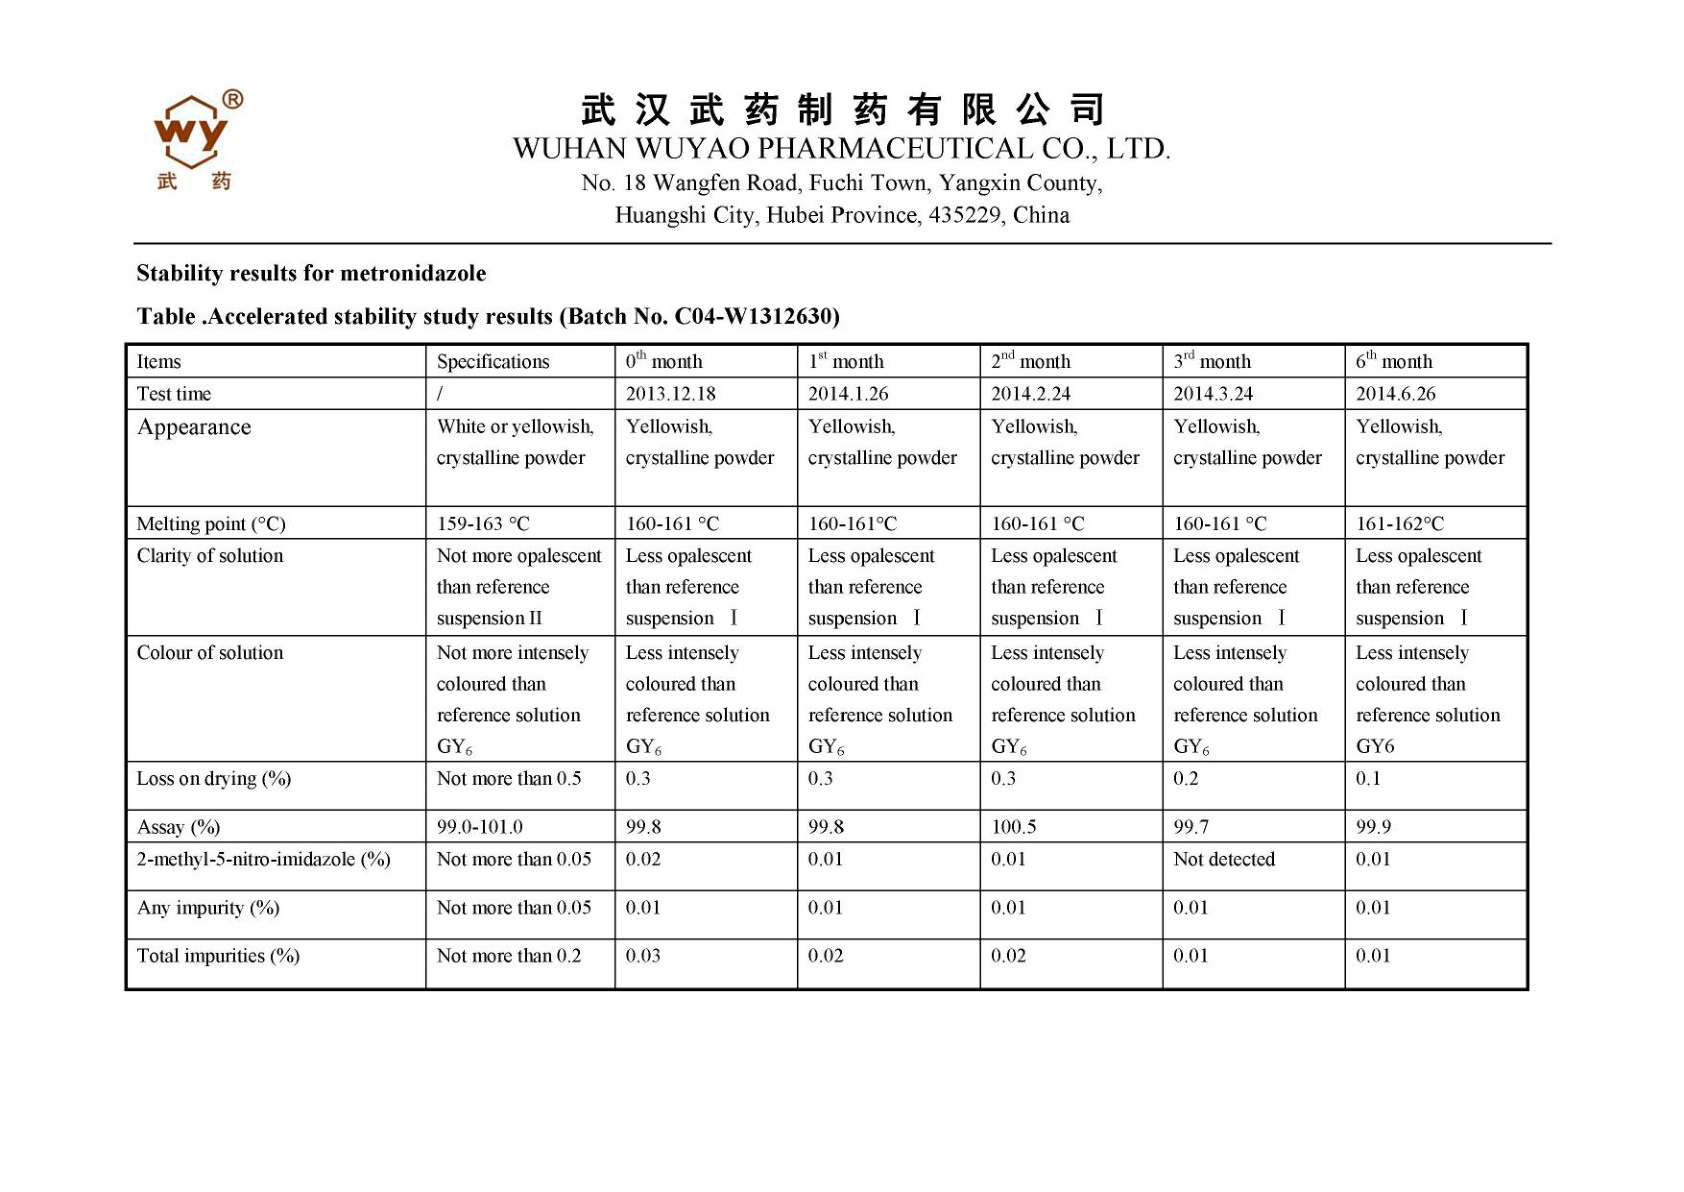full_lined: (122, 341, 1531, 991)
